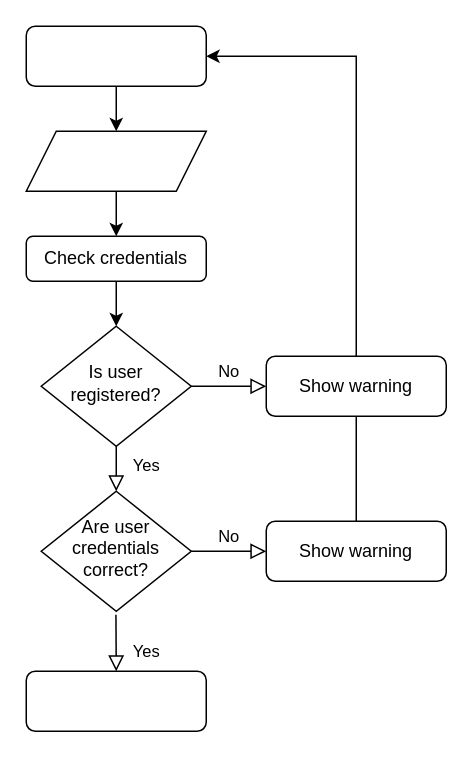
Some shapes in this 473 by 758 pixel diagram are drawn without their labels. The shapes that lost their labels are listed below. From the top down, each one's centre as x and y in pixels, then its label:
At point 115,55: "Start".
At point 115,160: "Email Password".
At point 115,700: "Authorize login".
